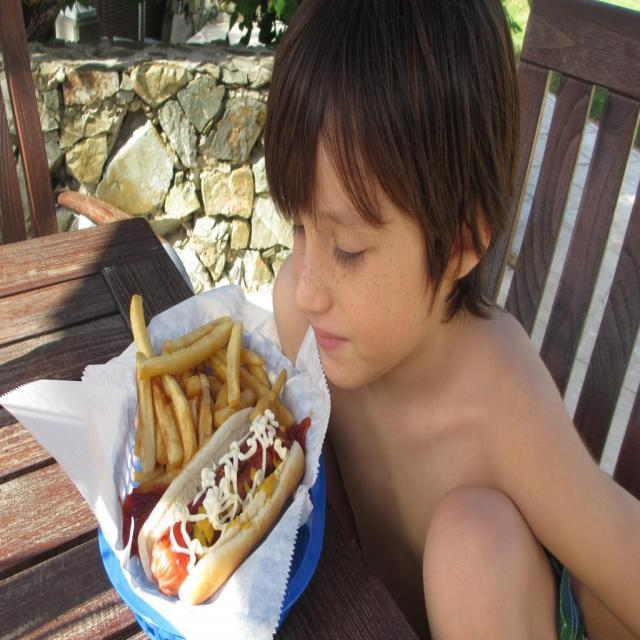Hot dog: (121, 384, 301, 604)
